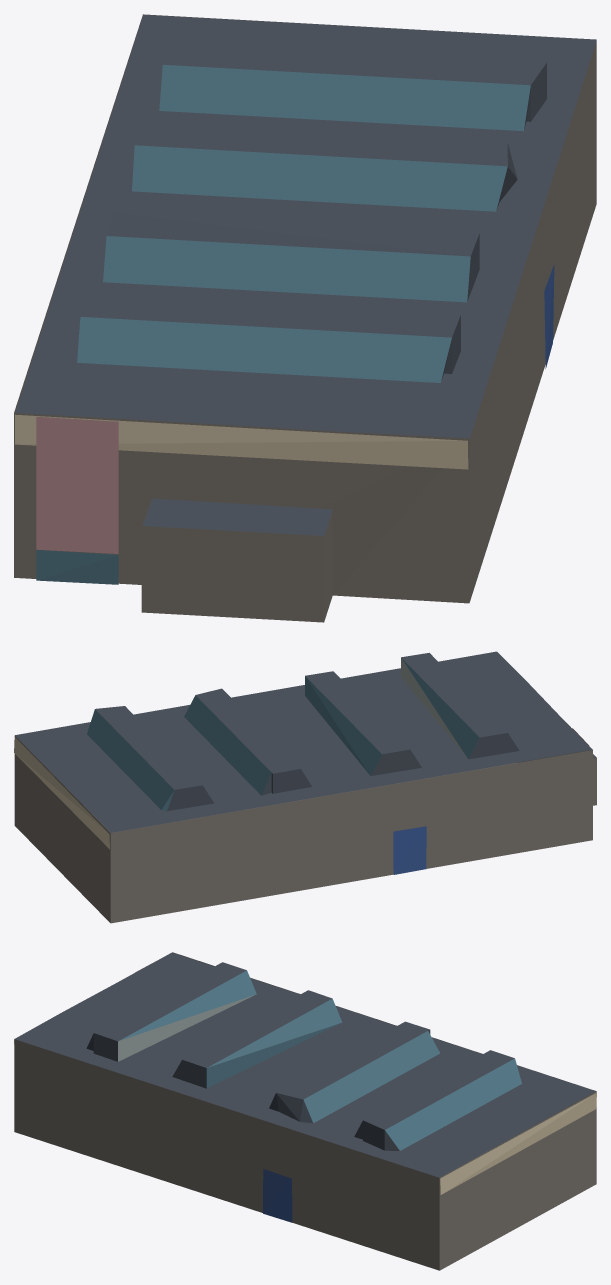
File: straat-museum.lod2.glb
3 renders of one model, top to bottom at view 1: azimuth 30°, elevation 25°; view 2: azimuth 150°, elevation 25°; view 3: azimuth 270°, elevation 25°, orthographic. The views are drawn at different scales.
Visible parts, largest first — view 1: lod2; view 2: lod2; view 3: lod2.
Part boxes in pixels (x1,y1,x2,y2): lod2: [14, 14, 596, 622]; lod2: [14, 651, 596, 923]; lod2: [14, 952, 596, 1270].
Size of the model in its own units: 117 by 27.6 by 128.
